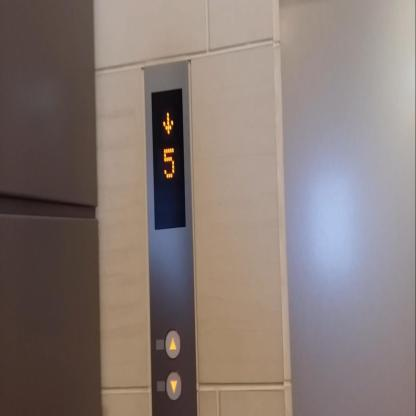down: (165, 370, 182, 402)
led: (151, 87, 187, 230)
up: (165, 328, 181, 360)
